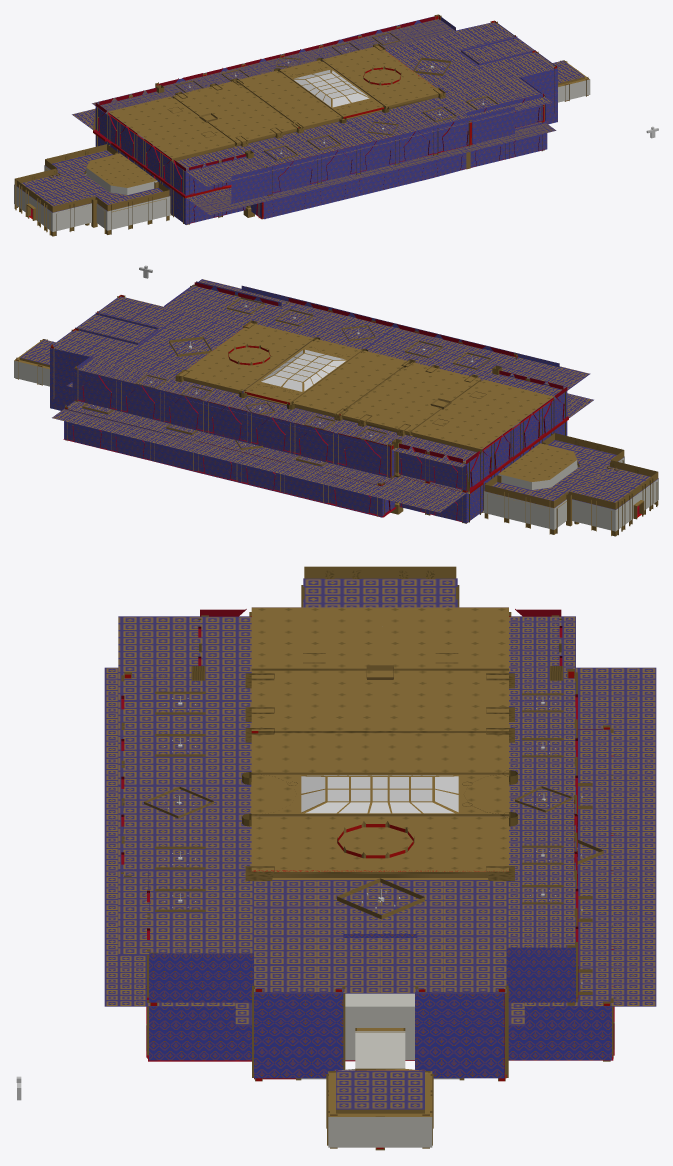
Rendered from UCCasinoDEMONSTRATION.fbx.
3 views of the same model, one above another, from view 1: azimuth 30°, elevation 25°; view 2: azimuth 150°, elevation 25°; view 3: azimuth 270°, elevation 25° (orthographic). The views are drawn at different scales.
Parts seen in each view (by area): view 1: Mesh6 skpE418_1 Group1 Model; view 2: Mesh6 skpE418_1 Group1 Model; view 3: Mesh6 skpE418_1 Group1 Model.
Part boxes in pixels (box(x1,y1,x2,y2)): Mesh6 skpE418_1 Group1 Model: box(14, 14, 658, 236); Mesh6 skpE418_1 Group1 Model: box(14, 265, 658, 536); Mesh6 skpE418_1 Group1 Model: box(16, 566, 656, 1150).
Bounding box in the file's own units: 10855 × 5489 × 1441.
